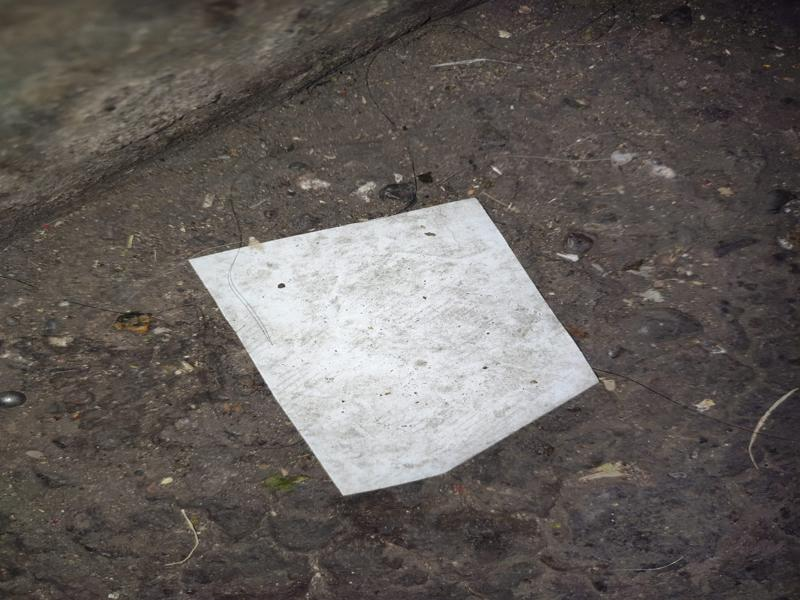papel: (187, 198, 599, 499)
